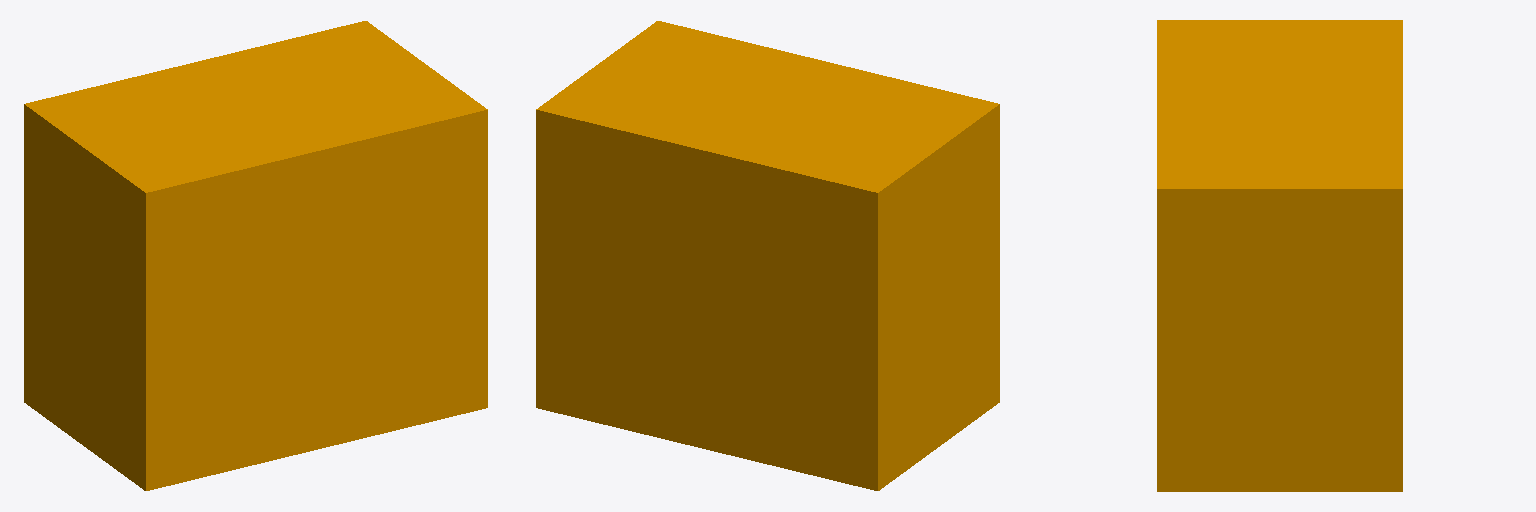
robot.urdf — youbot:
<?xml version="1.0" ?>
<!-- =================================================================================== -->
<!-- |    This document was autogenerated by xacro from youbot_description/robots/youbot_arm_only.urdf.xacro | -->
<!-- |    EDITING THIS FILE BY HAND IS NOT RECOMMENDED                                 | -->
<!-- =================================================================================== -->
<robot name="youbot" xmlns:controller="http://playerstage.sourceforge.net/gazebo/xmlschema/#controller" xmlns:interface="http://playerstage.sourceforge.net/gazebo/xmlschema/#interface" xmlns:sensor="http://playerstage.sourceforge.net/gazebo/xmlschema/#sensor" xmlns:xacro="http://ros.org/wiki/xacro">
  <!-- The following included files set up definitions of parts of the robot body -->
  <!-- misc common stuff? -->
  <!-- Casters -->
  <!-- materials for visualization -->
  <material name="youBot/Orange">
    <color rgba="1.0 0.4 0.0 1.0"/>
  </material>
  <material name="youBot/Grey">
    <color rgba="0.7 0.7 0.7 1.0"/>
  </material>
  <material name="youBot/DarkGrey">
    <color rgba="0.3 0.3 0.3 1.0"/>
  </material>
  <material name="youBot/White">
    <color rgba="1.0 1.0 1.0 1.0"/>
  </material>
  <material name="youBot/Black">
    <color rgba="0.0 0.0 0.0 1.0"/>
  </material>
  <material name="youBot/Red">
    <color rgba="1.0 0.0 0.0 1.0"/>
  </material>
  <material name="youBot/Green">
    <color rgba="0.0 1.0 0.0 1.0"/>
  </material>
  <material name="youBot/Blue">
    <color rgba="0.0 0.0 0.8 1.0"/>
  </material>
  <material name="youBot/LightGrey">
    <color rgba="0.82 0.82 0.82 1.0"/>
  </material>
  <!-- youbot arm -->
  <!-- reduction ratio doesn't affect the model-->
  <!-- reduction ratio must not to be 0-->
  &gt;

	
  <!-- common properties -->
  <!-- arm limits positions (deg) -->
  <!-- dynamic properties : mass (kg) Alu data sheet -->
  <!--<property name="link_0_mass" value="0.845" />
	<property name="link_1_mass" value="0.1" />
	<property name="link_2_mass" value="0.1" />
	<property name="link_3_mass" value="0.1" />
	<property name="link_4_mass" value="0.1" />
	<property name="link_5_mass" value="0.1" />-->
  <!-- TODO: add inertia tensor-->
  <!-- youbot arm -->
  <!-- common properties -->
  <!-- fingers limits, values are in meters -->
  <!-- controller manager -->
  <gazebo>
    <plugin filename="libgazebo_ros_control.so" name="gazebo_ros_controller"/>
  </gazebo>
  <!-- Now we can start using the macros included above to define the actual youbot -->
  <!-- The first use of a macro.  This one was defined in base.urdf.xacro above.
       A macro like this will expand to a set of link and joint definitions, and to additional
       Gazebo-related extensions (sensor plugins, etc).  The macro takes an argument, name, 
       that equals "base", and uses it to generate names for its component links and joints 
       (e.g., base_link).  The included origin block is also an argument to the macro.  By convention, 
       the origin block defines where the component is w.r.t its parent (in this case the parent 
       is the world frame). For more, see http://www.ros.org/wiki/xacro -->
  <!-- foot for arm-->
  <link name="box">
    <visual>
      <origin rpy="0 0 0" xyz="0 0 0.50"/>
      <geometry>
        <box size="1.20 .74 1.0"/>
      </geometry>
    </visual>
    <collision>
      <origin rpy="0 0 0" xyz="0 0 0.50"/>
      <geometry>
        <box size="1.20 .74 1.0"/>
      </geometry>
    </collision>
  </link>
  <!-- using the models -->
  <!-- First (shoulder) element of the arm. Fixed to its parent. -->
  <joint name="box_youbot_base_joint" type="fixed">
    <origin rpy="0 0 0" xyz="-0.25 0 1"/>
    <origin rpy="0 0 0" xyz="0 0 0"/>
    <parent link="box"/>
    <child link="base_link"/>
  </joint>
  
  <link name="base_link">
   <inertial>
      <origin rpy="0 0 0" xyz="0 0 0.055"/>
      <mass value="10.0"/>
      <inertia ixx="0.1" ixy="0" ixz="0" iyy="0.1" iyz="0" izz="0.1"/>
    </inertial>
  </link>

  <!-- joint between base_link and arm_0_link -->
  <joint name="arm_joint_0" type="fixed">
    <origin rpy="0 0 0" xyz="0 0 0"/>
    <parent link="base_link"/>
    <child link="arm_link_0"/>
  </joint>
  <link name="arm_link_0">
    <inertial>
      <!--<origin xyz="0.023 0 0.006" rpy="0 0 0"/>-->
      <origin rpy="0 0 0" xyz="0 0 0"/>
      <mass value="0.961"/>
      <inertia ixx="0.01" ixy="0" ixz="0" iyy="0.01" iyz="0" izz="0.01"/>
    </inertial>
    <visual>
      <origin rpy="0 0 0" xyz="0 0 0"/>
      <geometry>
        <mesh filename="package://youbot_description/meshes/youbot_arm/arm0.stl"/>
      </geometry>
      <material name="youBot/DarkGrey"/>
    </visual>
    <collision>
      <!--<origin xyz="0.023 0 0.006" rpy="0 0 0"/>-->
      <origin rpy="0 0 0" xyz="0 0 0"/>
      <geometry>
        <mesh filename="package://youbot_description/meshes/youbot_arm/arm0_convex.stl"/>
        <!--<cylinder length="0.078" radius="0.093"/>-->
      </geometry>
    </collision>
  </link>
  <!-- joint between arm_0_link and arm_1_link -->
  <joint name="arm_joint_1" type="revolute">
    <origin rpy="0 0 2.96705972839" xyz="0.024 0 0.096"/>
    <parent link="arm_link_0"/>
    <child link="arm_link_1"/>
    <axis xyz="0 0 -1"/>
    <!--<calibration rising="${arm_1_ref}" falling="${arm_1_ref}"/>-->
    <dynamics damping="1" friction="1"/>
    <!-- damping - N*s/m, N*s*m/rad -->
    <!-- friction - N, N*m -->
    <limit effort="9.5" lower="0" upper="5.89921287174" velocity="1.57079632679"/>
    <!--effort - N, N*m-->
    <!--velocity - m/s, rad/s-->
    <!--safety_controller k_position="20" k_velocity="${9.5/M_PI / 2.0}" soft_lower_limit="${threshold}" soft_upper_limit="${joint_1_limit_soft}" /-->
    <!--k_position N/m, N/rad-->
    <!--k_velocity N*s/m, N*s*m/rad-->
    <!--for details: http://www.ros.org/wiki/pr2_controller_manager/safety_limits-->
  </joint>
  <link name="arm_link_1">
    <inertial>
      <mass value="1.39"/>
      <origin rpy="0 0 0" xyz="0.01489 0.00213 0.00213"/>
      <inertia ixx="0.0029525" ixy="0.0" ixz="0.0" iyy="0.0060091" iyz="0.0" izz="0.0058821"/>
    </inertial>
    <visual>
      <origin rpy="0 0 0" xyz="0 0 0"/>
      <geometry>
        <mesh filename="package://youbot_description/meshes/youbot_arm/arm1.stl"/>
      </geometry>
      <material name="youBot/Orange"/>
    </visual>
    <collision>
      <!--<origin xyz="0 0 -0.003" rpy="0 0 0" />-->
      <origin rpy="0 0 0" xyz="0 0 0"/>
      <geometry>
        <mesh filename="package://youbot_description/meshes/youbot_arm/arm1_convex.stl"/>
        <!--<cylinder length="0.102" radius="0.080"/>-->
      </geometry>
    </collision>
  </link>
  <!-- joint between arm_1_link and arm_2_link -->
  <joint name="arm_joint_2" type="revolute">
    <origin rpy="0 -1.1344640138 0" xyz="0.033 0 0.019"/>
    <parent link="arm_link_1"/>
    <child link="arm_link_2"/>
    <axis xyz="0 1 0"/>
    <!--<calibration rising="${arm_2_ref}" falling="${arm_2_ref}"/>-->
    <dynamics damping="1" friction="1"/>
    <limit effort="9.5" lower="0" upper="2.70526034059" velocity="1.57079632679"/>
    <!--safety_controller k_position="20" k_velocity="${2*9.5/M_PI}" soft_lower_limit="${threshold}" soft_upper_limit="${joint_2_limit_soft}" /-->
  </joint>
  <link name="arm_link_2">
    <inertial>
      <mass value="1.318"/>
      <origin rpy="0 0 0" xyz="0.01053 -0.0307 0.08597"/>
      <inertia ixx="0.0031145" ixy="0.0" ixz="0.0" iyy="0.0005843" iyz="0.0" izz="0.0031631"/>
    </inertial>
    <visual>
      <origin rpy="0 0 0" xyz="0 -0.032 0.078"/>
      <geometry>
        <mesh filename="package://youbot_description/meshes/youbot_arm/arm2.stl"/>
      </geometry>
    </visual>
    <collision>
      <!--<origin xyz="0.001 -0.041 0.074" rpy="0 0 0" />-->
      <origin rpy="0 0 0" xyz="0 -0.032 0.078"/>
      <geometry>
        <mesh filename="package://youbot_description/meshes/youbot_arm/arm2_convex.stl"/>
        <!--<box size="0.074 0.082 0.222"/>-->
      </geometry>
    </collision>
  </link>
  <!-- joint between arm_2_link and arm_3_link -->
  <!--<joint name="${name}_joint_3" type="revolute">
			<origin xyz="0.000 0.000 0.155" rpy="0 ${146 * M_PI / 180} 0"/>
			<parent link="${name}_link_2"/>
			<child link="${name}_link_3"/>
			<axis xyz="0 1 0"/>
			<dynamics damping="1" friction="1" />
			<limit effort="${6}" velocity="${M_PI / 2.0}" lower="-${joint_3_limit}" upper="0"/>
      <safety_controller k_position="20" k_velocity="50" soft_lower_limit="-${joint_3_limit_soft}" soft_upper_limit="${threshold}" />
		</joint>-->
  <joint name="arm_joint_3" type="revolute">
    <origin rpy="0 2.54818070791 0" xyz="0.000 0.000 0.155"/>
    <parent link="arm_link_2"/>
    <child link="arm_link_3"/>
    <axis xyz="0 1 0"/>
    <dynamics damping="1" friction="1"/>
    <limit effort="6.0" lower="-5.18362787842" upper="0" velocity="1.57079632679"/>
    <!--safety_controller k_position="20" k_velocity="50" soft_lower_limit="-${joint_3_limit_soft}" soft_upper_limit="-${threshold}" /-->
  </joint>
  <link name="arm_link_3">
    <inertial>
      <mass value="0.821"/>
      <origin rpy="0 0 0" xyz="0.0001 0.0207 0.07107"/>
      <inertia ixx="0.00172767" ixy="0.0" ixz="0.0" iyy="0.00041967" iyz="0.0" izz="0.0018468"/>
    </inertial>
    <visual>
      <origin rpy="0 0 0" xyz="0.000 0.028 0.079"/>
      <geometry>
        <mesh filename="package://youbot_description/meshes/youbot_arm/arm3.stl"/>
      </geometry>
      <material name="youBot/Orange"/>
    </visual>
    <collision>
      <!--<origin xyz="0.000 0.025 0.067" rpy="0 0 0" />-->
      <origin rpy="0 0 0" xyz="0.000 0.028 0.079"/>
      <geometry>
        <mesh filename="package://youbot_description/meshes/youbot_arm/arm3_convex.stl"/>
        <!--<box size="0.064 0.054 0.192"/>-->
      </geometry>
    </collision>
  </link>
  <!-- joint between arm_3_link and arm_4_link -->
  <joint name="arm_joint_4" type="revolute">
    <origin rpy="0 -1.78896248329 0" xyz="0.000 0.000 0.135"/>
    <parent link="arm_link_3"/>
    <child link="arm_link_4"/>
    <axis xyz="0 1 0"/>
    <!--<calibration rising="${arm_4_ref}" falling="${arm_4_ref}"/>-->
    <dynamics damping="1" friction="1"/>
    <limit effort="2.0" lower="0" upper="3.57792496659" velocity="1.57079632679"/>
    <!--safety_controller k_position="20" k_velocity="100" soft_lower_limit="0" soft_upper_limit="${joint_4_limit_soft}" /-->
  </joint>
  <link name="arm_link_4">
    <inertial>
      <mass value="0.769"/>
      <origin rpy="0 0 0" xyz="0.00011 -0.02 0.05019"/>
      <inertia ixx="0.0006764" ixy="0.0" ixz="0.0" iyy="0.0010573" iyz="0.0" izz="0.0006610"/>
    </inertial>
    <visual>
      <origin rpy="0 0 0" xyz="0 -0.010 0.029"/>
      <geometry>
        <mesh filename="package://youbot_description/meshes/youbot_arm/arm4.stl"/>
      </geometry>
      <material name="youBot/Orange"/>
    </visual>
    <collision>
      <!--<origin xyz="0 0 0.026" rpy="0 0 0" />-->
      <origin rpy="0 0 0" xyz="0 -0.010 0.029"/>
      <geometry>
        <mesh filename="package://youbot_description/meshes/youbot_arm/arm4_convex.stl"/>
        <!--<box size="0.058 0.100 0.118"/>-->
      </geometry>
    </collision>
  </link>


  <!-- joint between arm_4_link and arm_5_link -->
  <joint name="arm_joint_5" type="revolute">
    <origin rpy="0 0 2.92342649709" xyz="-0.002 0 0.130"/>
    <parent link="arm_link_4"/>
    <child link="arm_link_5"/>
    <axis xyz="0 0 -1"/>
    <!--<calibration rising="${arm_5_ref}" falling="${arm_5_ref}"/>-->
    <dynamics damping="1" friction="1"/>
    <limit effort="1.0" lower="0" upper="5.84685299418" velocity="1.57079632679"/>
    <!--safety_controller k_position="20" k_velocity="100" soft_lower_limit="0" soft_upper_limit="${joint_5_limit_soft}" /-->
  </joint>
  <link name="arm_link_5">
    <inertial>
      <mass value="0.687"/>
      <origin rpy="0 0 0" xyz="0.0 0.00115 -0.01683"/>
      <inertia ixx="0.0001934" ixy="0.0" ixz="0.0" iyy="0.0001602" iyz="0.0" izz="0.0000689"/>
    </inertial>
    <visual>
      <origin rpy="0 0 0" xyz="0.003 0 -0.034"/>
      <geometry>
        <mesh filename="package://youbot_description/meshes/youbot_arm/arm5.stl"/>
      </geometry>
      <material name="youBot/DarkGrey"/>
    </visual>
    <collision>
      <origin rpy="0 0 0" xyz="0.003 0 -0.034"/>
      <geometry>
        <mesh filename="package://youbot_description/meshes/youbot_arm/arm5_convex.stl"/>
        <!--<box size="0.054 0.096 0.030"/>-->
      </geometry>
    </collision>
  </link>

  
  <!-- extensions -->
  <gazebo reference="arm_link_0">
    <turnGravityOff>false</turnGravityOff>
  </gazebo>
  <gazebo reference="arm_link_1">
    <turnGravityOff>false</turnGravityOff>
  </gazebo>
  <gazebo reference="arm_link_2">
    <turnGravityOff>false</turnGravityOff>
  </gazebo>
  <gazebo reference="arm_link_3">
    <turnGravityOff>false</turnGravityOff>
  </gazebo>
  <gazebo reference="arm_link_4">
    <turnGravityOff>false</turnGravityOff>
  </gazebo>
  <gazebo reference="arm_link_5">
    <turnGravityOff>false</turnGravityOff>
  </gazebo>
  <transmission name="arm_trans_1">
    <type>transmission_interface/SimpleTransmission</type>
    <actuator name="arm_motor_1">
      <hardwareInterface>EffortJointInterface</hardwareInterface>
      <mechanicalReduction>1</mechanicalReduction>
    </actuator>
    <joint name="arm_joint_1">
      <hardwareInterface>EffortJointInterface</hardwareInterface>
    </joint>
  </transmission>
  <transmission name="arm_trans_2">
    <type>transmission_interface/SimpleTransmission</type>
    <actuator name="arm_motor_2">
      <hardwareInterface>EffortJointInterface</hardwareInterface>
      <mechanicalReduction>1</mechanicalReduction>
    </actuator>
    <joint name="arm_joint_2">
      <hardwareInterface>EffortJointInterface</hardwareInterface>
    </joint>
  </transmission>
  <transmission name="arm_trans_3">
    <type>transmission_interface/SimpleTransmission</type>
    <actuator name="arm_motor_3">
      <hardwareInterface>EffortJointInterface</hardwareInterface>
      <mechanicalReduction>1</mechanicalReduction>
    </actuator>
    <joint name="arm_joint_3">
      <hardwareInterface>EffortJointInterface</hardwareInterface>
    </joint>
  </transmission>
  <transmission name="arm_trans_4">
    <type>transmission_interface/SimpleTransmission</type>
    <actuator name="arm_motor_4">
      <hardwareInterface>EffortJointInterface</hardwareInterface>
      <mechanicalReduction>1</mechanicalReduction>
    </actuator>
    <joint name="arm_joint_4">
      <hardwareInterface>EffortJointInterface</hardwareInterface>
    </joint>
  </transmission>
  <transmission name="arm_trans_5">
    <type>transmission_interface/SimpleTransmission</type>
    <actuator name="arm_motor_5">
      <hardwareInterface>EffortJointInterface</hardwareInterface>
      <mechanicalReduction>1</mechanicalReduction>
    </actuator>
    <joint name="arm_joint_5">
      <hardwareInterface>EffortJointInterface</hardwareInterface>
    </joint>
  </transmission>
 
</robot>

--- What the picture shows (computed from the rendered views, not written in the file) ---
The picture shows the robot from 3 angles, left to right: view 1: azimuth 30°, elevation 25°; view 2: azimuth 150°, elevation 25°; view 3: azimuth 270°, elevation 25°; orthographic projection.
Model youbot with 8 links and 7 joints (5 revolute, 2 fixed), rooted at box, posed all joints at 0.
Visible links, largest first — view 1: box; view 2: box; view 3: box.
Link boxes in pixels (bbox=[...]): box: bbox=[24, 21, 487, 490]; box: bbox=[536, 21, 999, 490]; box: bbox=[1157, 20, 1402, 491].
Bounding box of the posed robot: 1.2 × 0.74 × 1.09 m (x, y, z).
Meshes: 6 distinct files referenced, 6 mesh visuals loaded (6 binary STL).
